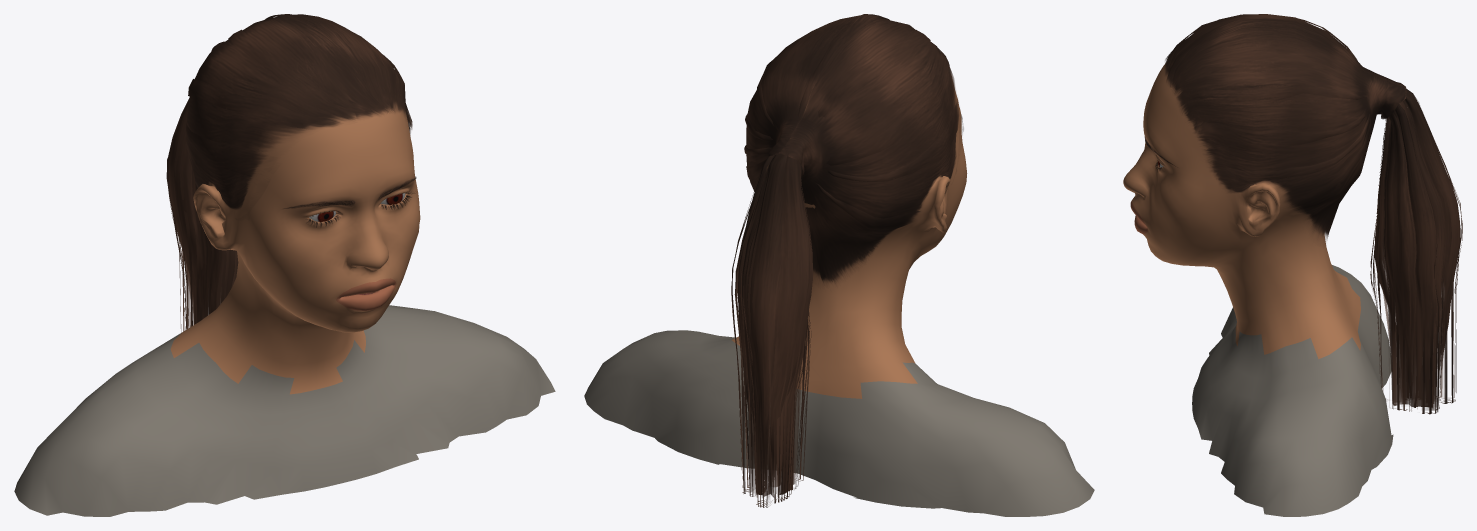
Rendered from woman-10.glb.
3 renders of one model, left to right at view 1: azimuth 30°, elevation 25°; view 2: azimuth 150°, elevation 25°; view 3: azimuth 270°, elevation 25°, orthographic. The views are drawn at different scales.
Visible parts, largest first — view 1: mpfb-face, mpfb-face.ponytail01; view 2: mpfb-face, mpfb-face.ponytail01; view 3: mpfb-face, mpfb-face.ponytail01.
Part boxes in pixels (x1=…): mpfb-face: x1=14, y1=103, x2=555, y2=516; mpfb-face.ponytail01: x1=166, y1=14, x2=412, y2=332; mpfb-face: x1=584, y1=76, x2=1094, y2=516; mpfb-face.ponytail01: x1=731, y1=14, x2=959, y2=507; mpfb-face: x1=1123, y1=62, x2=1393, y2=516; mpfb-face.ponytail01: x1=1164, y1=14, x2=1462, y2=414.
Bounding box in the file's own units: 0.4276 × 0.3372 × 0.2702.
9 materials, 6 textured.
